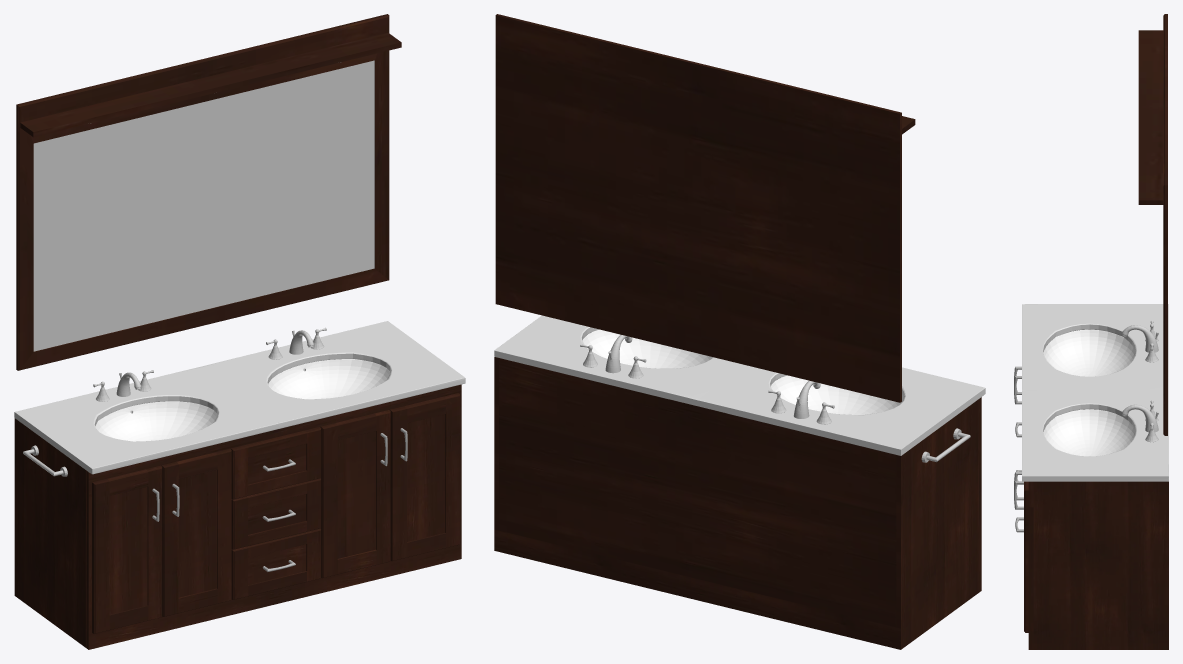
The model's file is sc-double-vanity.glb.
3 views of the same model, side by side, from view 1: azimuth 30°, elevation 25°; view 2: azimuth 150°, elevation 25°; view 3: azimuth 270°, elevation 25° (orthographic). The views are drawn at different scales.
Visible parts, largest first — view 1: sweethome3d_window_mirror.001_Plane.000_mirror, mirror_Plane.008_dark_wood_dark_wood.jpg, marble_Circle_marble, vanitybase_Cube.001_dark_wood_dark_wood.jpg, leftdoor_leftside_Plane.014_dark_wood_dark_wood.jpg, righdoor_righside_Plane.019_dark_wood_dark_wood.jpg, leftdoor_righside_Plane.018_dark_wood_dark_wood.jpg, rightdoor_leftsid_Plane.013_dark_wood_dark_wood.jpg, woodtape_Cube.002_dark_wood_dark_wood.jpg, drawer1_Plane.015_dark_wood_dark_wood.jpg, drawer2_Plane.016_dark_wood_dark_wood.jpg, drawer3_Plane.017_dark_wood_dark_wood.jpg (+2 smaller); view 2: mirror_Plane.008_dark_wood_dark_wood.jpg, vanitybase_Cube.001_dark_wood_dark_wood.jpg, marble_Circle_marble, sink_Sphere_white_ceramic, sink2_Sphere.005_white_ceramic; view 3: vanitybase_Cube.001_dark_wood_dark_wood.jpg, marble_Circle_marble, mirror_Plane.008_dark_wood_dark_wood.jpg, sink_Sphere_white_ceramic, sink2_Sphere.005_white_ceramic, woodtape_Cube.002_dark_wood_dark_wood.jpg, righdoor_righside_Plane.019_dark_wood_dark_wood.jpg, simpletap_Circle.001_chrome, simpletap2_Circle.006_chrome.
Part boxes in pixels (x1,y1,x2,y2): sweethome3d_window_mirror.001_Plane.000_mirror: (33,60,374,351); mirror_Plane.008_dark_wood_dark_wood.jpg: (16,14,401,370); marble_Circle_marble: (14,321,465,474); vanitybase_Cube.001_dark_wood_dark_wood.jpg: (14,418,86,647); leftdoor_leftside_Plane.014_dark_wood_dark_wood.jpg: (92,465,162,633); righdoor_righside_Plane.019_dark_wood_dark_wood.jpg: (390,393,459,561); leftdoor_righside_Plane.018_dark_wood_dark_wood.jpg: (320,410,390,578); rightdoor_leftsid_Plane.013_dark_wood_dark_wood.jpg: (161,449,231,616); woodtape_Cube.002_dark_wood_dark_wood.jpg: (86,384,461,649); drawer1_Plane.015_dark_wood_dark_wood.jpg: (231,427,321,499); drawer2_Plane.016_dark_wood_dark_wood.jpg: (231,478,321,549); drawer3_Plane.017_dark_wood_dark_wood.jpg: (231,528,321,599); mirror_Plane.008_dark_wood_dark_wood.jpg: (495,14,915,402); vanitybase_Cube.001_dark_wood_dark_wood.jpg: (494,357,978,649); marble_Circle_marble: (494,315,985,455); sink_Sphere_white_ceramic: (771,375,903,414); sink2_Sphere.005_white_ceramic: (582,329,712,368); vanitybase_Cube.001_dark_wood_dark_wood.jpg: (1033,481,1168,649); marble_Circle_marble: (1022,304,1168,481); mirror_Plane.008_dark_wood_dark_wood.jpg: (1138,14,1167,435); sink_Sphere_white_ceramic: (1043,329,1135,376); sink2_Sphere.005_white_ceramic: (1043,409,1135,456); woodtape_Cube.002_dark_wood_dark_wood.jpg: (1028,481,1033,649); righdoor_righside_Plane.019_dark_wood_dark_wood.jpg: (1024,481,1028,632); simpletap_Circle.001_chrome: (1122,325,1158,352); simpletap2_Circle.006_chrome: (1122,404,1158,432).
Bounding box in the file's own units: 1.85 × 2.25 × 0.681.
Materials: 6 (1 with a texture image).
